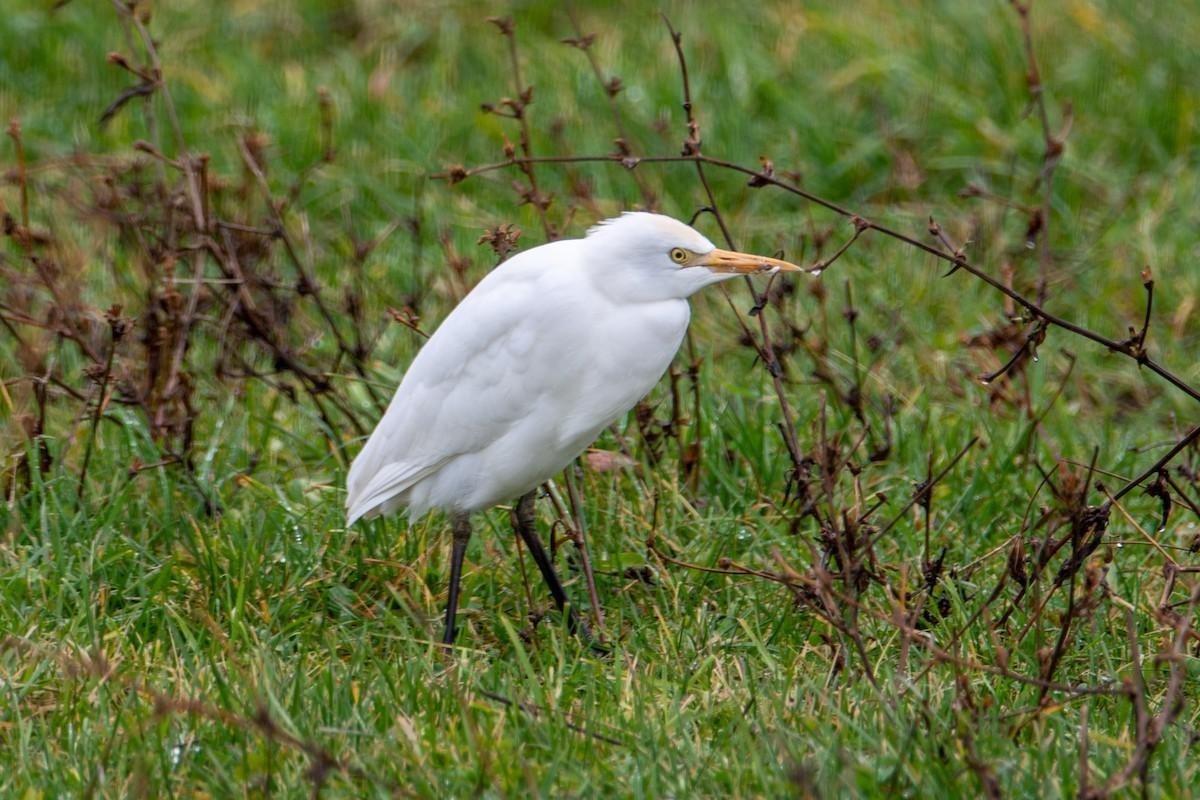egret: (281, 201, 797, 672)
